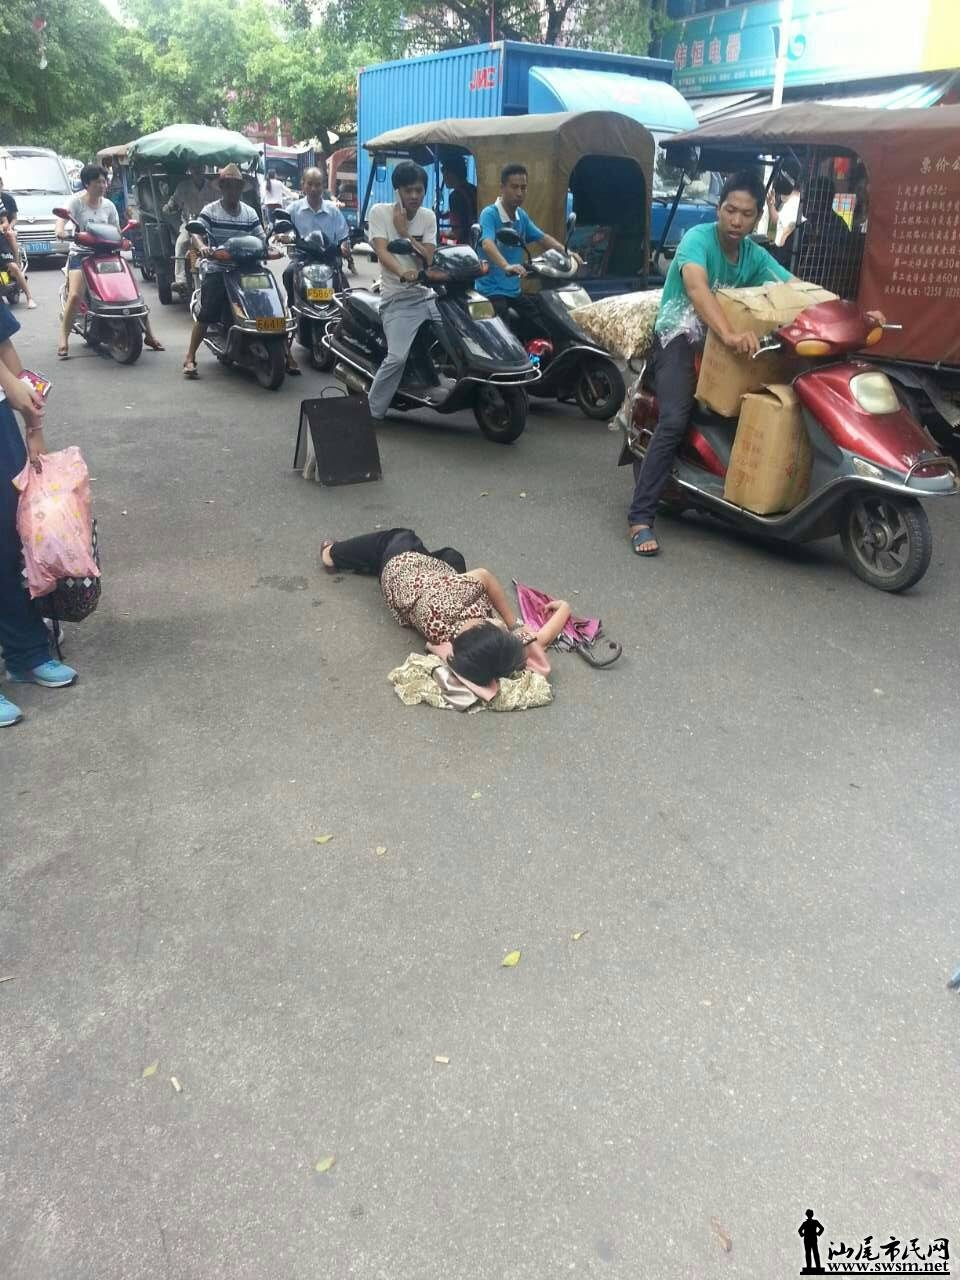falling: (314, 498, 629, 729)
